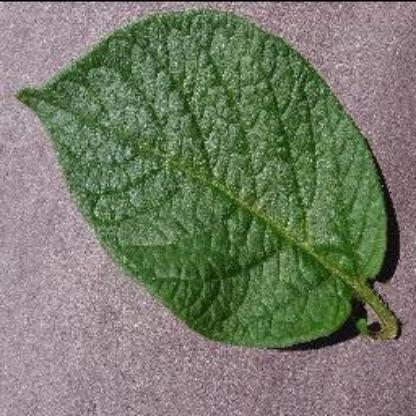Healthy-plant: (21, 4, 411, 384)
